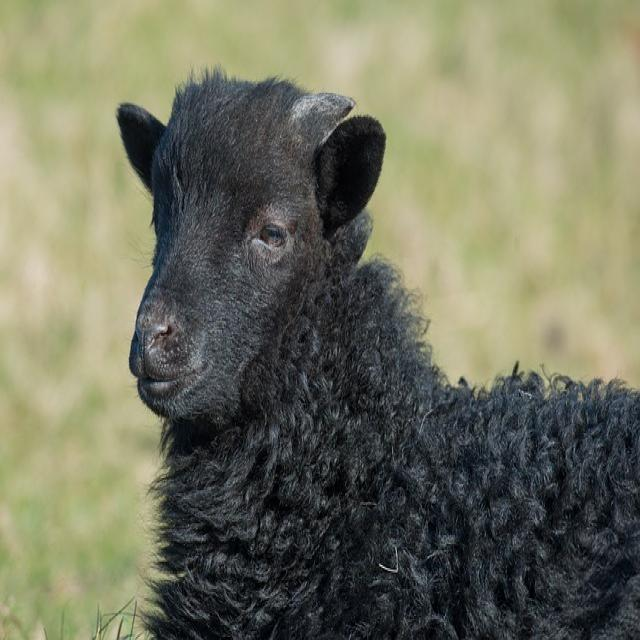goat: (115, 69, 640, 640)
